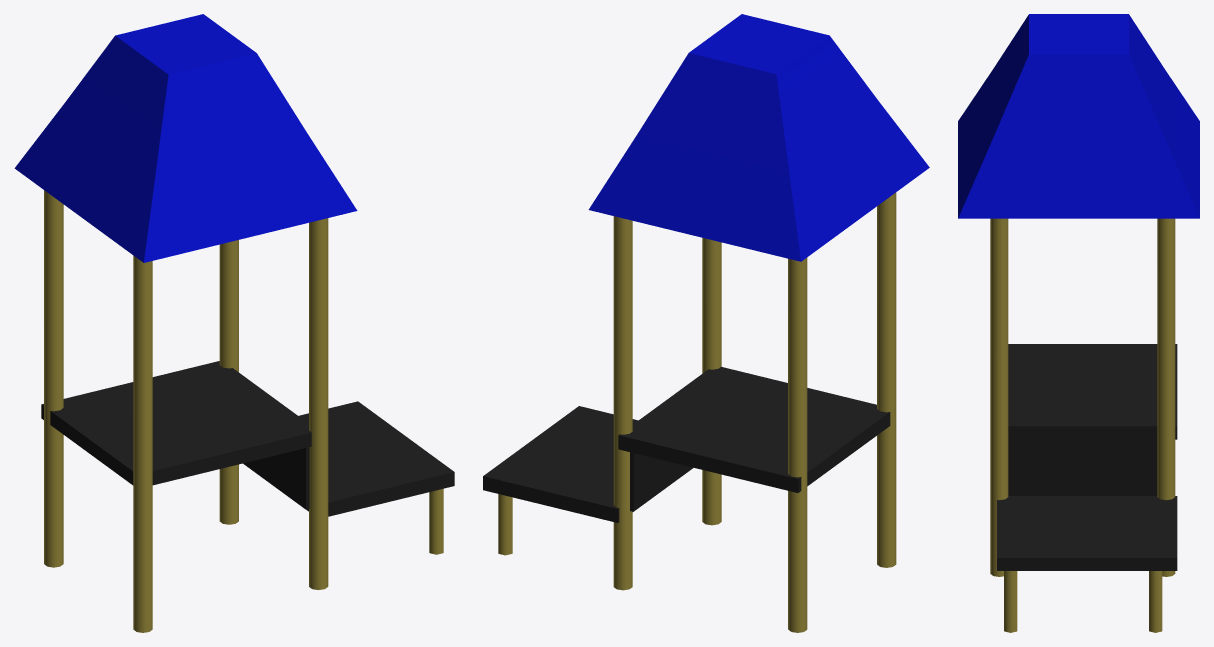
Rendered from ART-MOD-A-Castle-Corner1-002.FBX.
3 views of the same model, side by side, from view 1: azimuth 30°, elevation 25°; view 2: azimuth 150°, elevation 25°; view 3: azimuth 270°, elevation 25° (orthographic). The views are drawn at different scales.
Parts seen in each view (by area): view 1: Box015; view 2: Box015; view 3: Box015.
Boxes of the visible parts, <box> form: Box015: <box>14,14,454,632</box>; Box015: <box>483,14,929,632</box>; Box015: <box>958,14,1199,632</box>.
Bounding box in the file's own units: 166 × 255 × 112.
